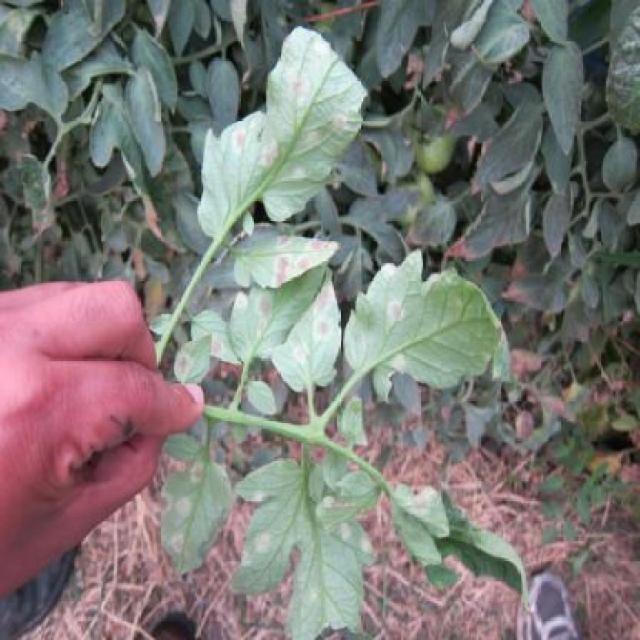Leaf Mold: (247, 460, 396, 618), (229, 284, 349, 390), (268, 28, 354, 160), (194, 112, 280, 226), (156, 458, 230, 574), (224, 232, 350, 280)
